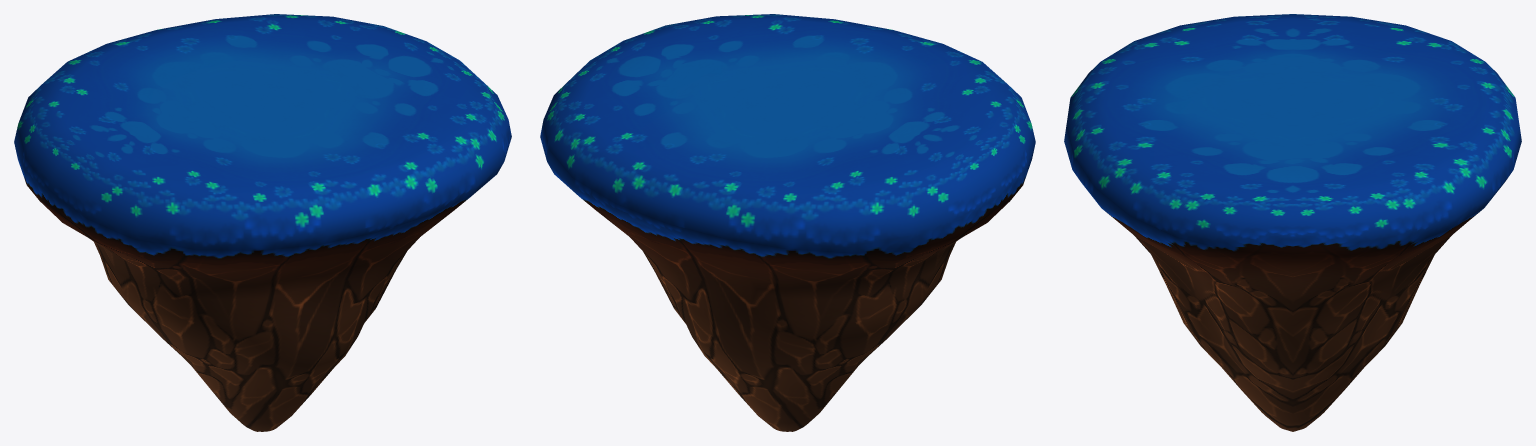
File: Blue_Island_LOD.FBX
3 views of the same model, side by side, from view 1: azimuth 30°, elevation 25°; view 2: azimuth 150°, elevation 25°; view 3: azimuth 270°, elevation 25° (orthographic).
Visible parts, largest first — view 1: Blue_Island_LOD; view 2: Blue_Island_LOD; view 3: Blue_Island_LOD.
Part boxes in pixels (left/top/right/bottom): Blue_Island_LOD: left=14, top=14, right=511, bottom=431; Blue_Island_LOD: left=540, top=14, right=1035, bottom=431; Blue_Island_LOD: left=1064, top=14, right=1521, bottom=431.
Size of the model in its own units: 1747 by 1290 by 1639.
